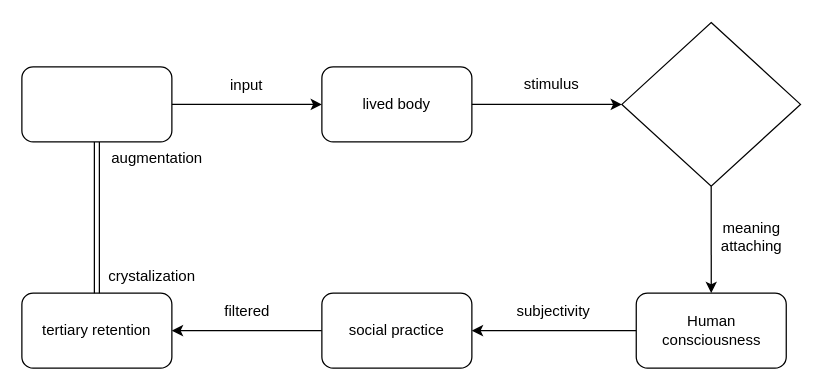
Image size: 823x390. Some labels were removed from this diagram. Here are the shapes that lost their labels. From the top down, the centre of each, then its label:
[96,104]: Outer Reality
[710,103]: Nachträglichkeit or différance
